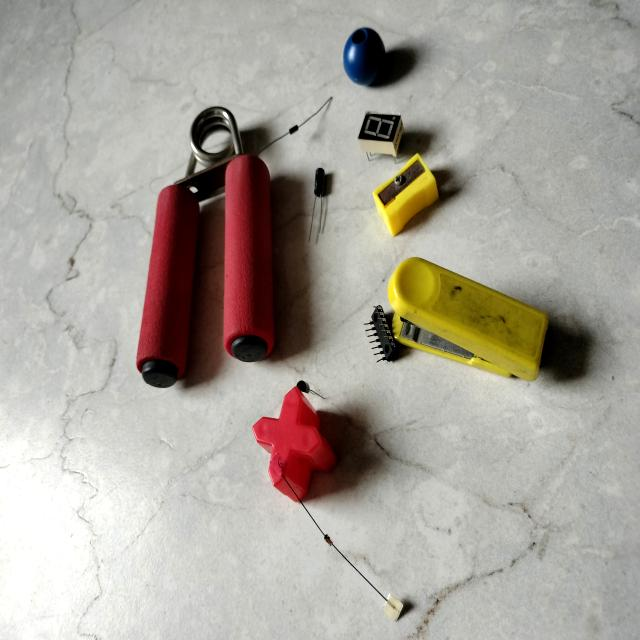capacitor: (314, 168, 332, 197)
